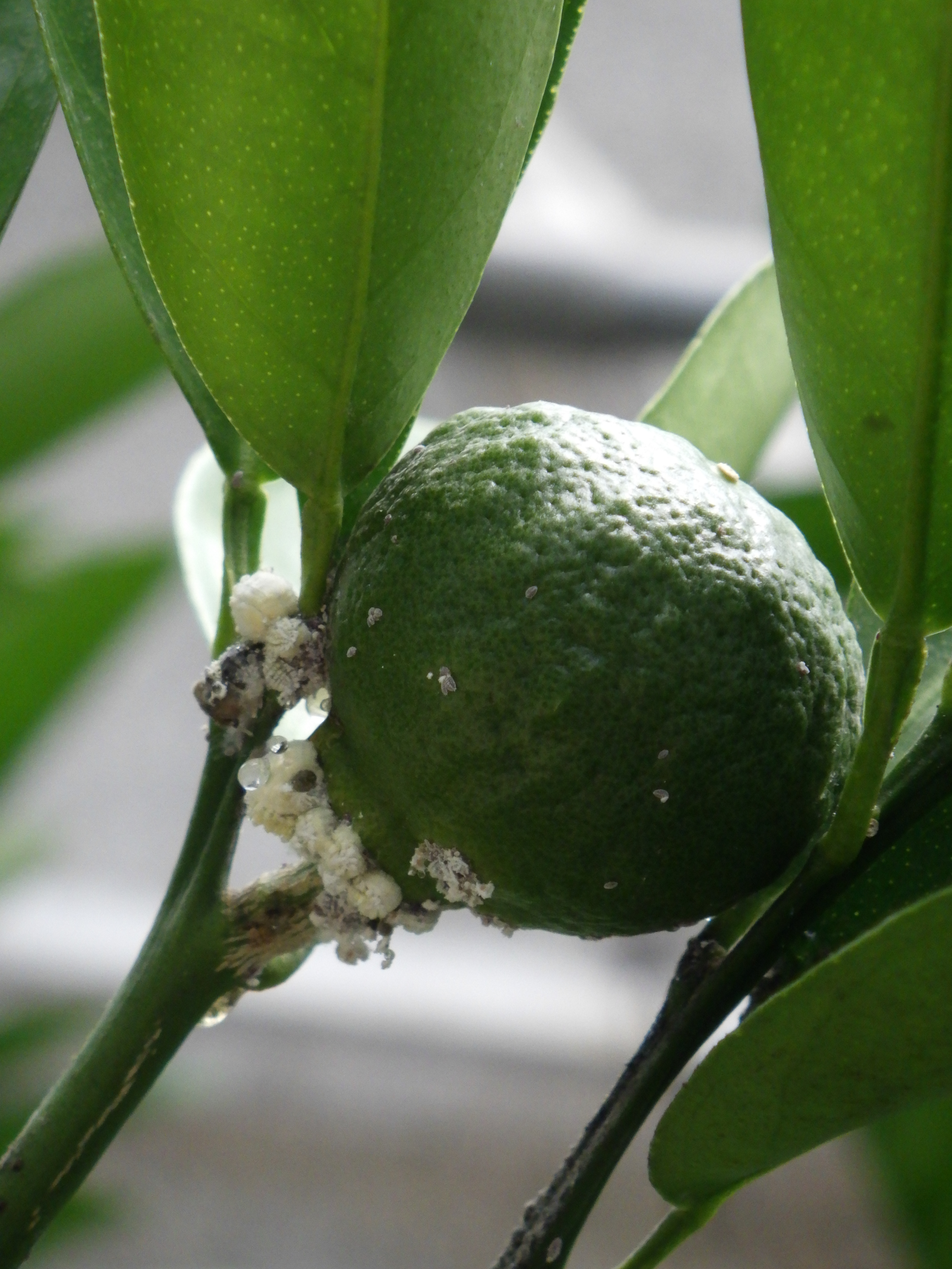Scale_Insect: (246, 740, 401, 919), (229, 570, 297, 642)
